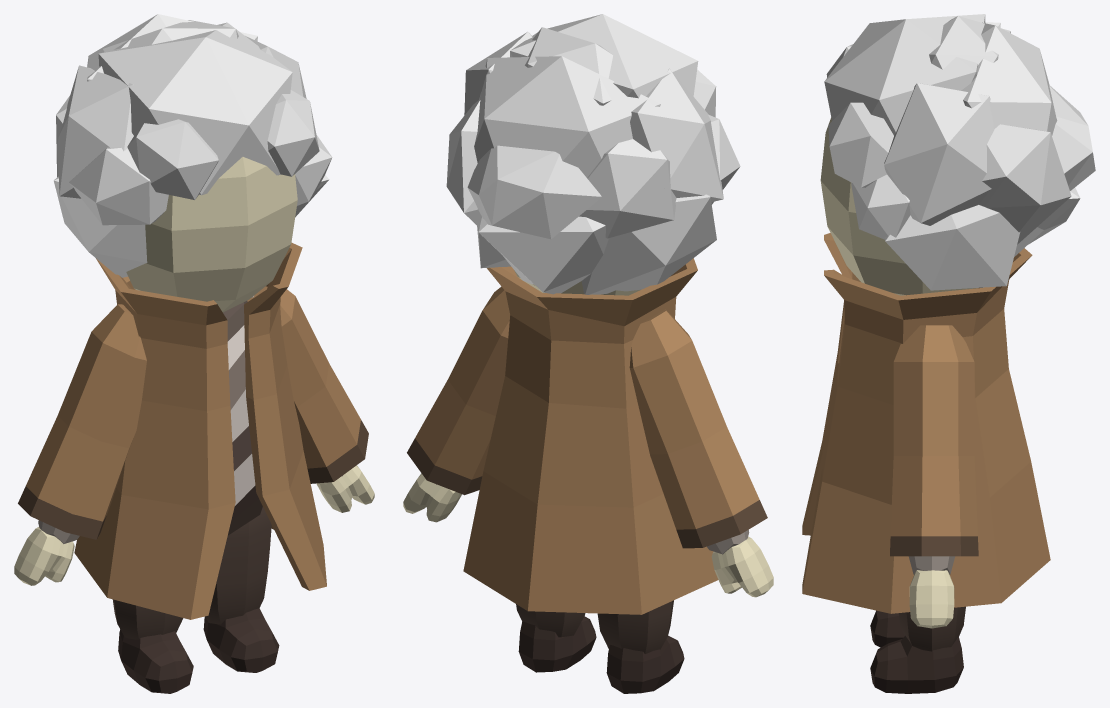
Rendered from Character mockup .fbx.
3 renders of one model, left to right at view 1: azimuth 30°, elevation 25°; view 2: azimuth 150°, elevation 25°; view 3: azimuth 270°, elevation 25°, orthographic. The views are drawn at different scales.
Parts seen in each view (by area): view 1: Circle, Icosphere, Cylinder, Cube.001, Cube.005, Cube.002, Cube.008, Cube; view 2: Icosphere, Circle, Cylinder, Cube.005, Cube, Cube.002; view 3: Icosphere, Circle, Cylinder, Cube.001, Cube.005, Cube, Cube.002, Cube.003.
Part boxes in pixels (x1,y1,x2,y2): Circle: [74, 242, 326, 619]; Icosphere: [53, 14, 332, 277]; Cylinder: [18, 286, 368, 539]; Cube.001: [126, 157, 297, 312]; Cube.005: [118, 608, 279, 693]; Cube.002: [112, 507, 271, 639]; Cube.008: [223, 301, 262, 535]; Cube: [14, 465, 374, 585]; Icosphere: [446, 14, 740, 294]; Circle: [463, 258, 718, 614]; Cylinder: [407, 286, 767, 548]; Cube.005: [518, 616, 684, 693]; Cube: [403, 473, 773, 597]; Cube.002: [516, 600, 673, 653]; Icosphere: [824, 14, 1095, 290]; Circle: [802, 233, 1050, 613]; Cylinder: [890, 325, 978, 556]; Cube.001: [820, 117, 978, 295]; Cube.005: [870, 610, 963, 693]; Cube: [909, 570, 954, 628]; Cube.002: [898, 606, 965, 651]; Cube.003: [908, 556, 955, 574].
Size of the model in its own units: 175 by 304 by 124.
